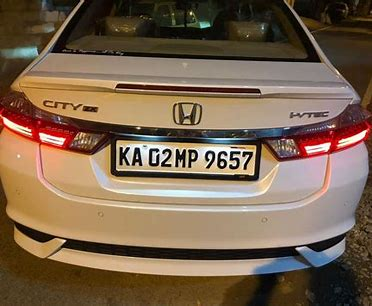license-plate: (115, 139, 258, 174)
